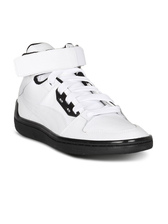shoes: (9, 38, 158, 160)
